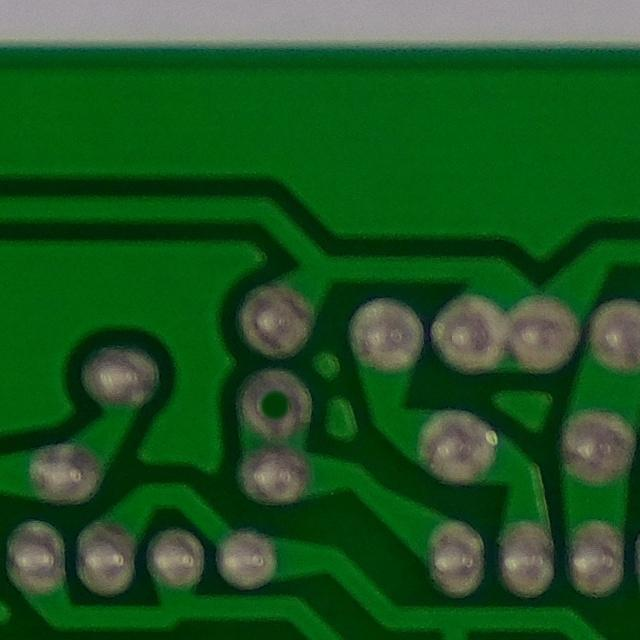missing_hole: (231, 358, 319, 455)
